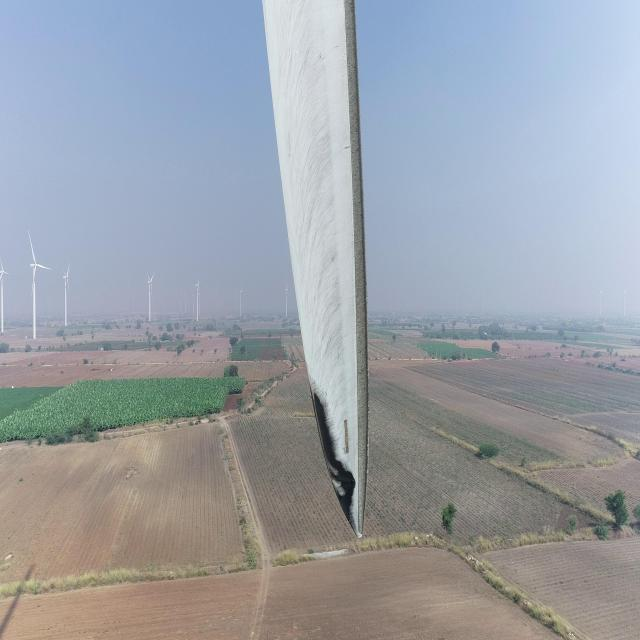Dirt: (263, 0, 367, 538)
Oil LEAKAGE: (311, 389, 360, 534)
